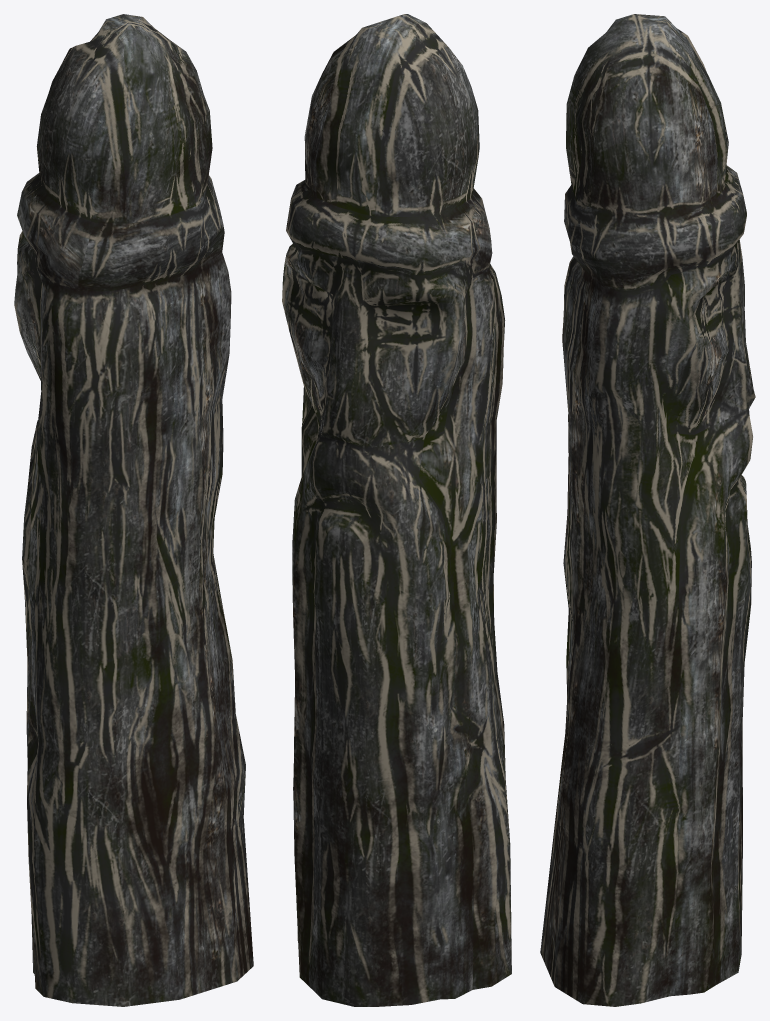
File: muninpost.glb
3 views of the same model, side by side, from view 1: azimuth 30°, elevation 25°; view 2: azimuth 150°, elevation 25°; view 3: azimuth 270°, elevation 25° (orthographic).
Visible parts, largest first — view 1: g; view 2: g; view 3: g.
Part boxes in pixels (x1,y1,x2,y2): g: (14,14,253,1006); g: (282,14,511,1006); g: (540,14,755,1006).
Size of the model in its own units: 0.4532 by 2 by 0.4132.
Materials: 1 (1 with a texture image).
